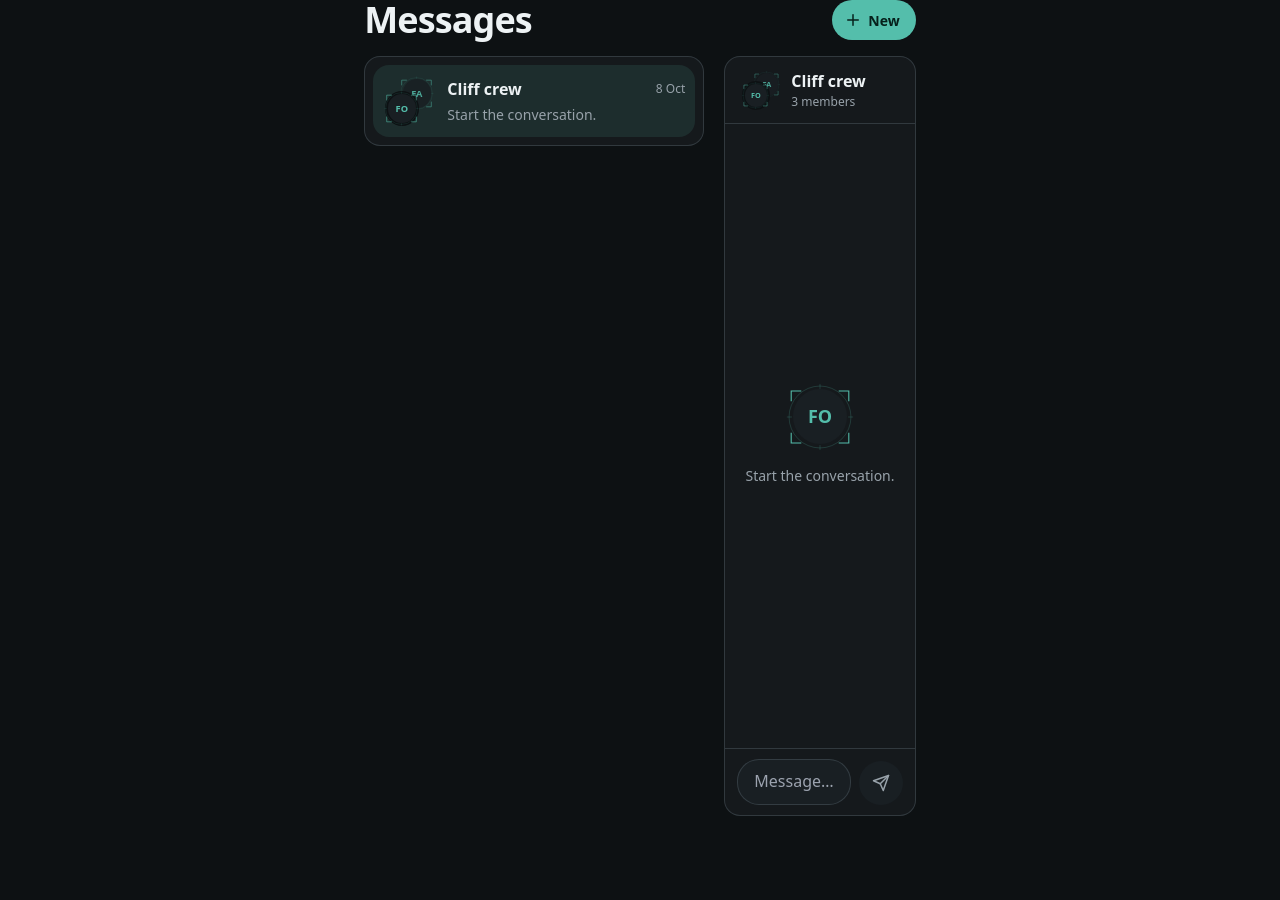
Test: leaving a group drops it from the inbox instead of keeping a clickable dead row
Expected: the text "Cliff crew" is shown 2 times, 447,77 -> 522,101; 791,69 -> 866,93
Header and inbox row both show the group name.
Click the button "FA FO Cliff crew 3 members".
click(820, 90)  # box 741,69 -> 899,111
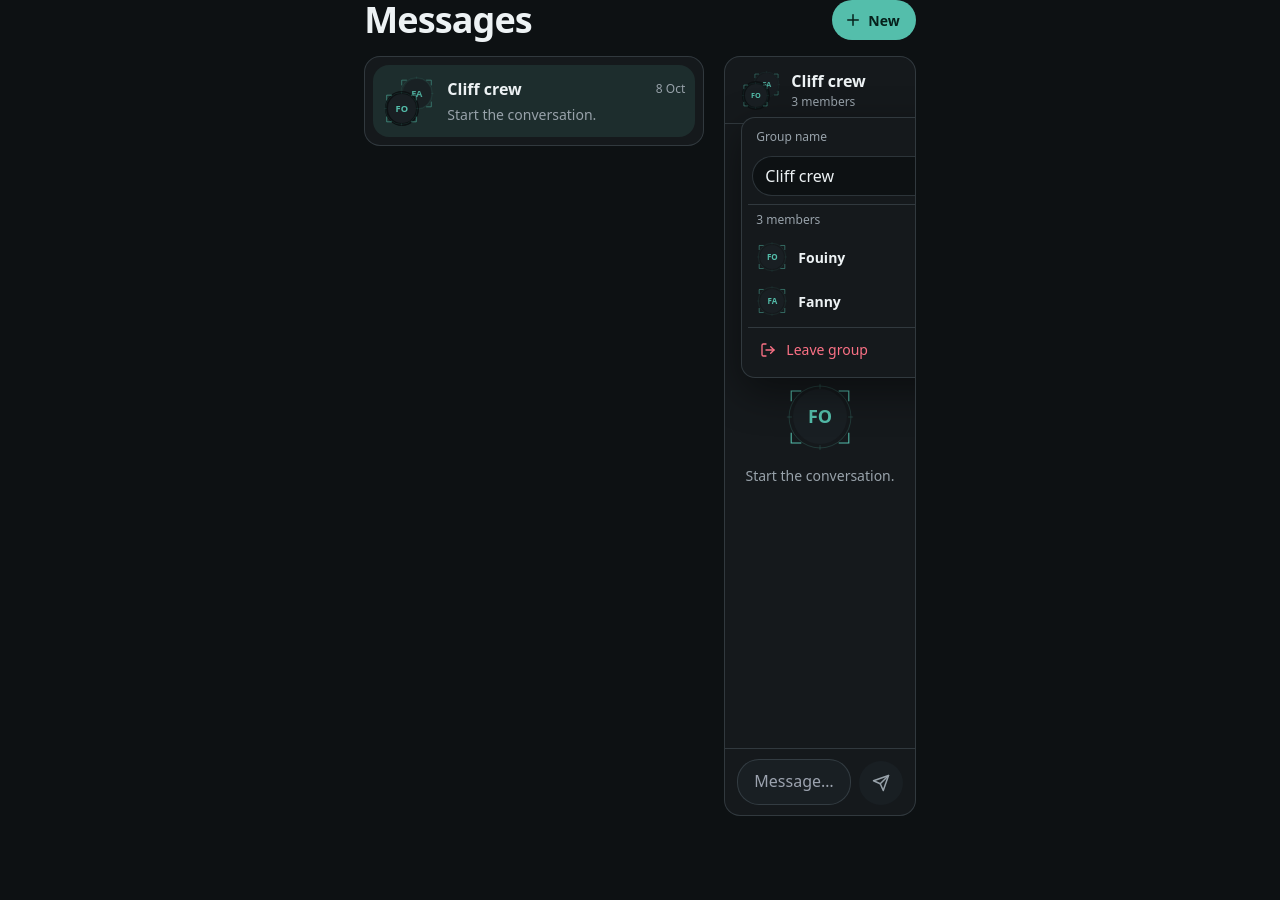
Click the button "Leave group".
click(827, 350)  # box 748,327 -> 1034,371
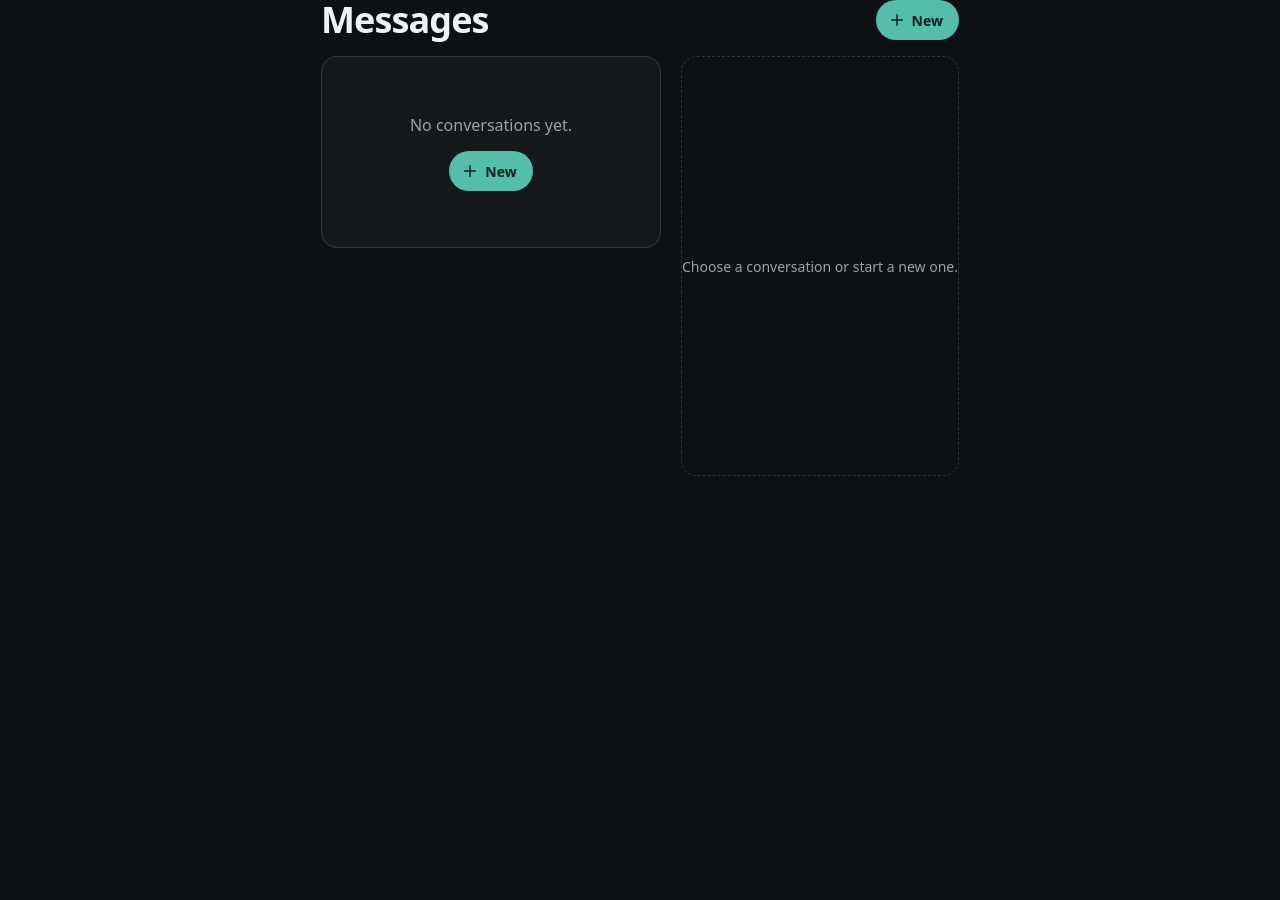
Expected: the link "Cliff crew" is gone
Expected: the text "No conversations yet." is shown, 410,113 -> 572,137
